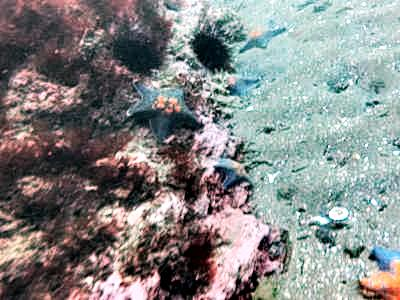urchin: (109, 27, 163, 78), (191, 31, 237, 75)
